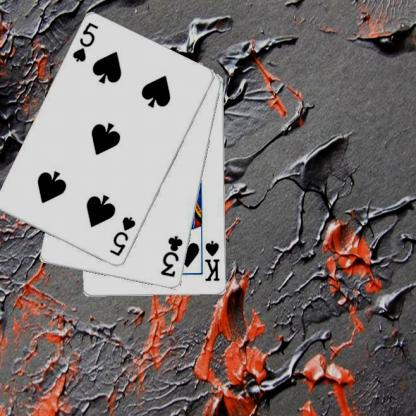3C: (158, 233, 185, 279)
5S: (69, 20, 100, 64), (107, 214, 137, 258)
KS: (202, 238, 221, 283)
